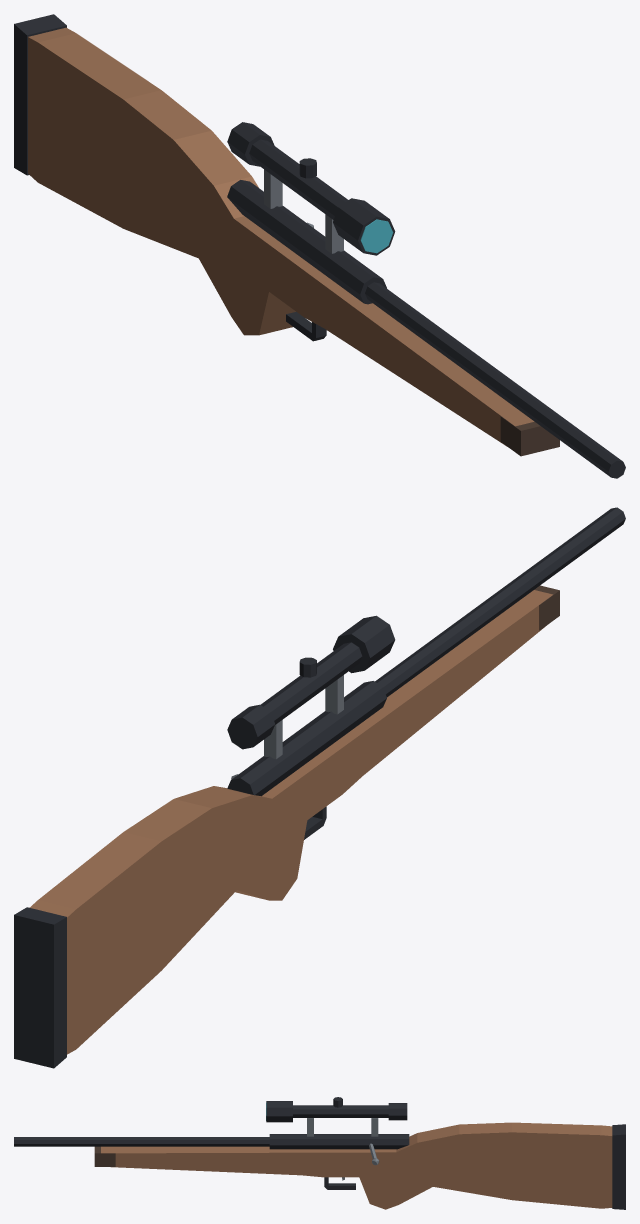
The model's file is hunting_rifle.glb.
The picture shows the model from 3 angles, top to bottom: view 1: azimuth 30°, elevation 25°; view 2: azimuth 150°, elevation 25°; view 3: azimuth 270°, elevation 25°; orthographic projection. The views are drawn at different scales.
Parts seen in each view (by area): view 1: hunting_rifle_mesh; view 2: hunting_rifle_mesh; view 3: hunting_rifle_mesh.
Part boxes in pixels (box(x1,y1,x2,y2)): hunting_rifle_mesh: box(14, 14, 625, 478); hunting_rifle_mesh: box(14, 507, 625, 1068); hunting_rifle_mesh: box(14, 1097, 625, 1209).
Bounding box in the file's own units: 0.0702 × 0.2215 × 1.16.
1 material, 1 textured.
